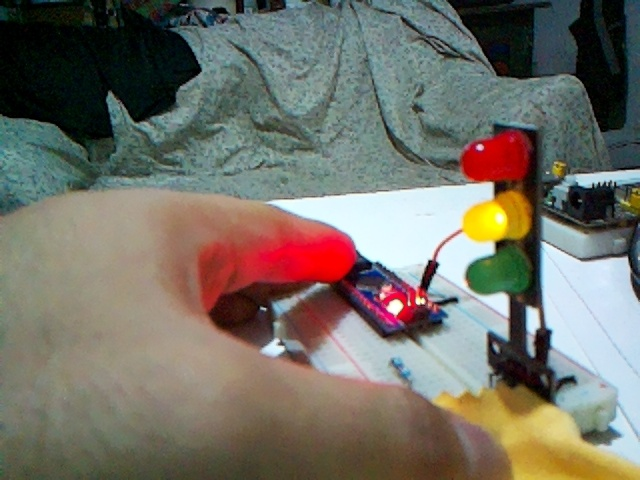traffic_light_yellow: (461, 124, 554, 398)
